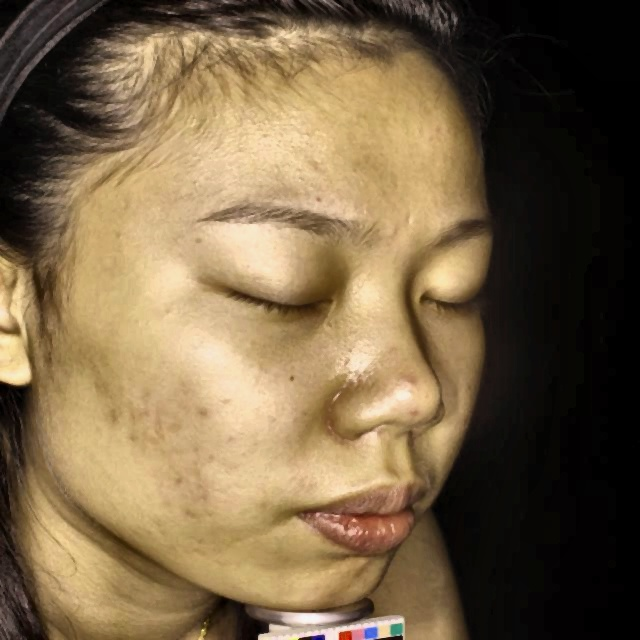comedone: (142, 377, 162, 404)
